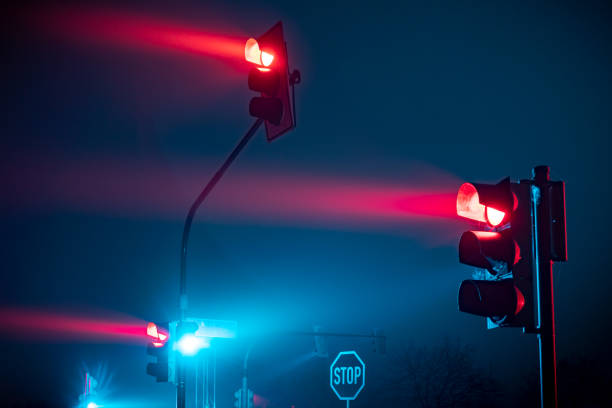Stop Signal: (322, 345, 382, 404)
Traffic Signal: (445, 164, 545, 342), (123, 298, 234, 403), (236, 19, 311, 147)
